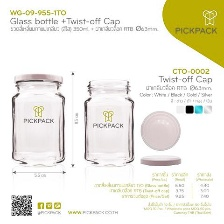bottle: (5, 69, 68, 169), (81, 74, 136, 170)
